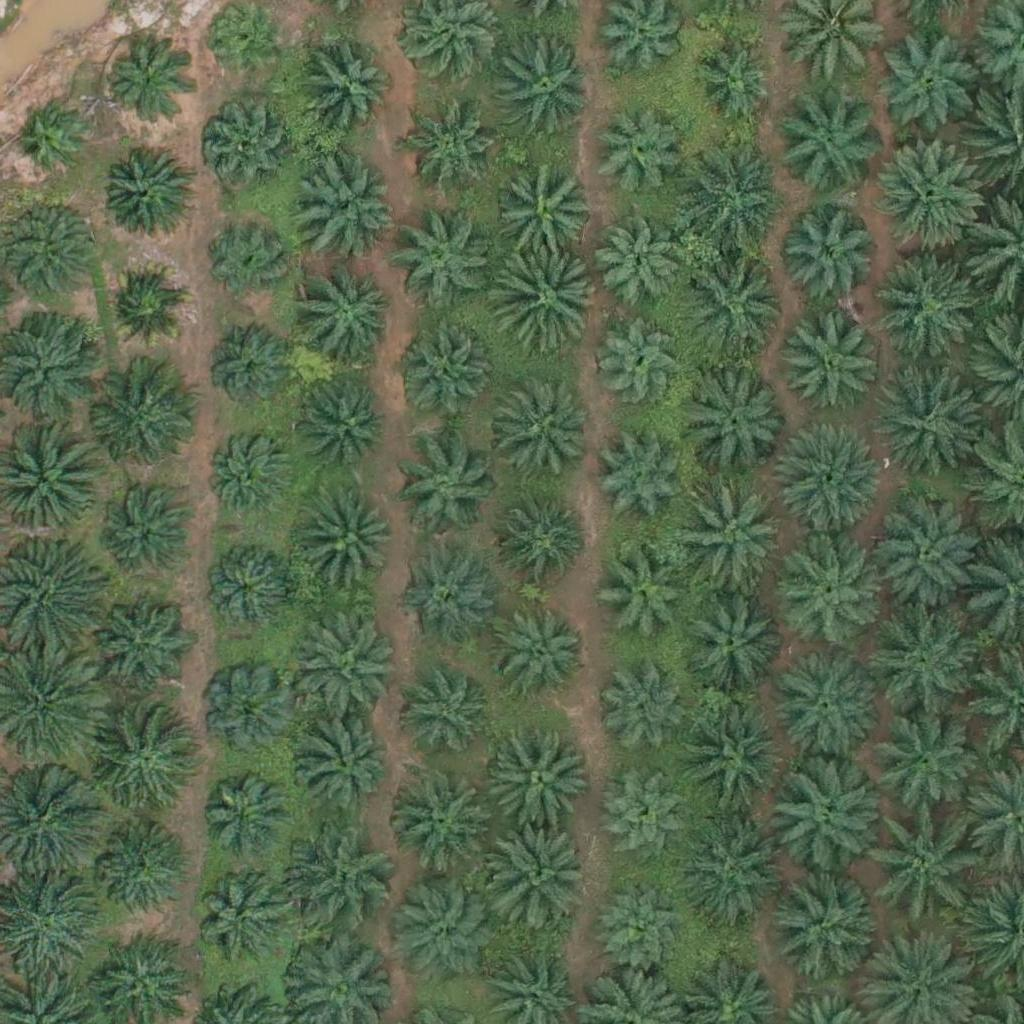Kelapa_Sawit: (874, 362, 987, 476), (762, 765, 875, 878), (382, 875, 495, 988), (867, 498, 980, 611), (874, 252, 987, 365), (771, 89, 884, 202), (773, 424, 886, 537), (679, 486, 792, 599), (677, 244, 790, 357), (678, 144, 791, 257), (383, 768, 495, 882), (677, 700, 789, 814), (488, 243, 600, 357), (292, 609, 404, 723), (875, 809, 987, 922), (760, 870, 872, 983), (678, 818, 790, 931), (486, 821, 598, 934), (286, 818, 398, 931), (866, 697, 978, 810), (865, 606, 977, 719), (873, 136, 985, 249), (772, 653, 884, 766), (481, 722, 593, 835), (87, 363, 199, 476), (89, 713, 201, 826), (776, 207, 876, 308), (784, 311, 884, 412), (780, 548, 880, 649), (676, 592, 776, 693), (687, 375, 787, 476), (486, 600, 586, 701), (499, 167, 599, 268), (391, 215, 491, 316), (393, 325, 493, 426), (398, 669, 498, 770), (298, 261, 398, 362), (198, 661, 298, 762), (90, 601, 190, 702), (875, 31, 975, 132), (487, 378, 587, 478), (396, 435, 496, 535), (396, 559, 496, 659), (297, 42, 397, 142), (300, 158, 400, 258), (301, 495, 401, 595), (294, 716, 394, 816), (199, 540, 299, 640), (494, 36, 594, 136), (596, 884, 684, 972), (196, 873, 284, 961), (93, 827, 181, 915), (590, 111, 678, 199), (594, 223, 682, 311), (599, 549, 687, 637), (604, 669, 692, 757), (492, 494, 580, 582), (413, 112, 501, 200), (300, 378, 388, 466), (199, 770, 287, 858), (205, 217, 293, 305), (206, 329, 294, 417), (206, 434, 294, 522), (690, 32, 778, 120), (596, 320, 683, 408), (597, 439, 684, 527), (599, 774, 686, 862), (203, 100, 290, 188), (105, 41, 192, 129), (101, 146, 188, 234), (101, 264, 188, 352), (98, 485, 185, 573), (17, 103, 92, 179)
